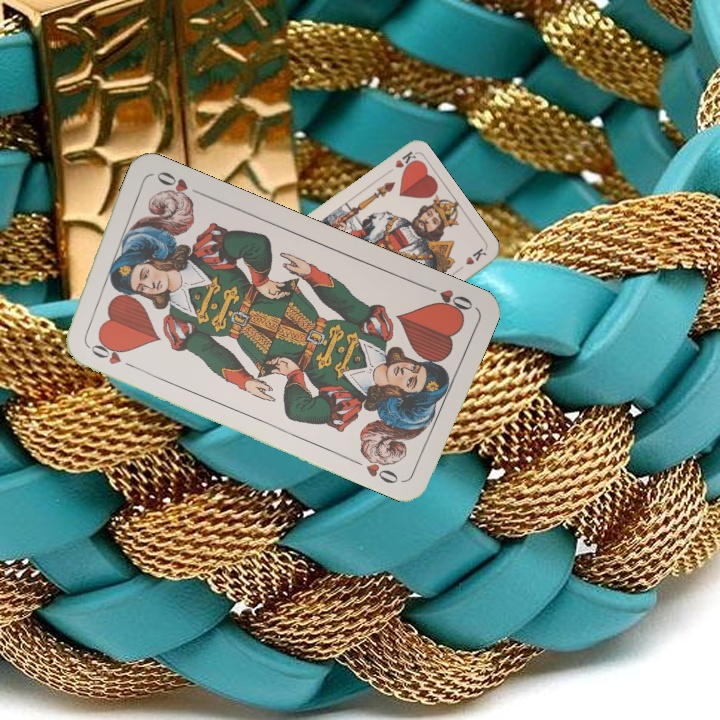HK: (380, 147, 419, 178)
HO: (420, 281, 475, 318), (82, 338, 137, 371)
